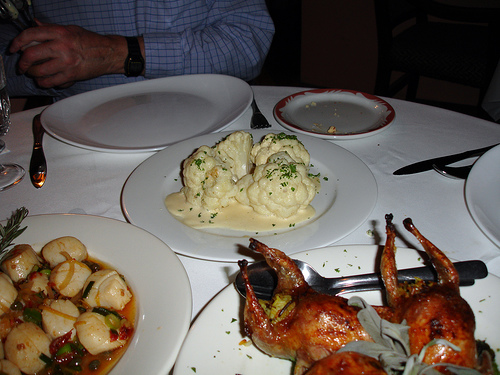cauliflower: (167, 133, 319, 228)
